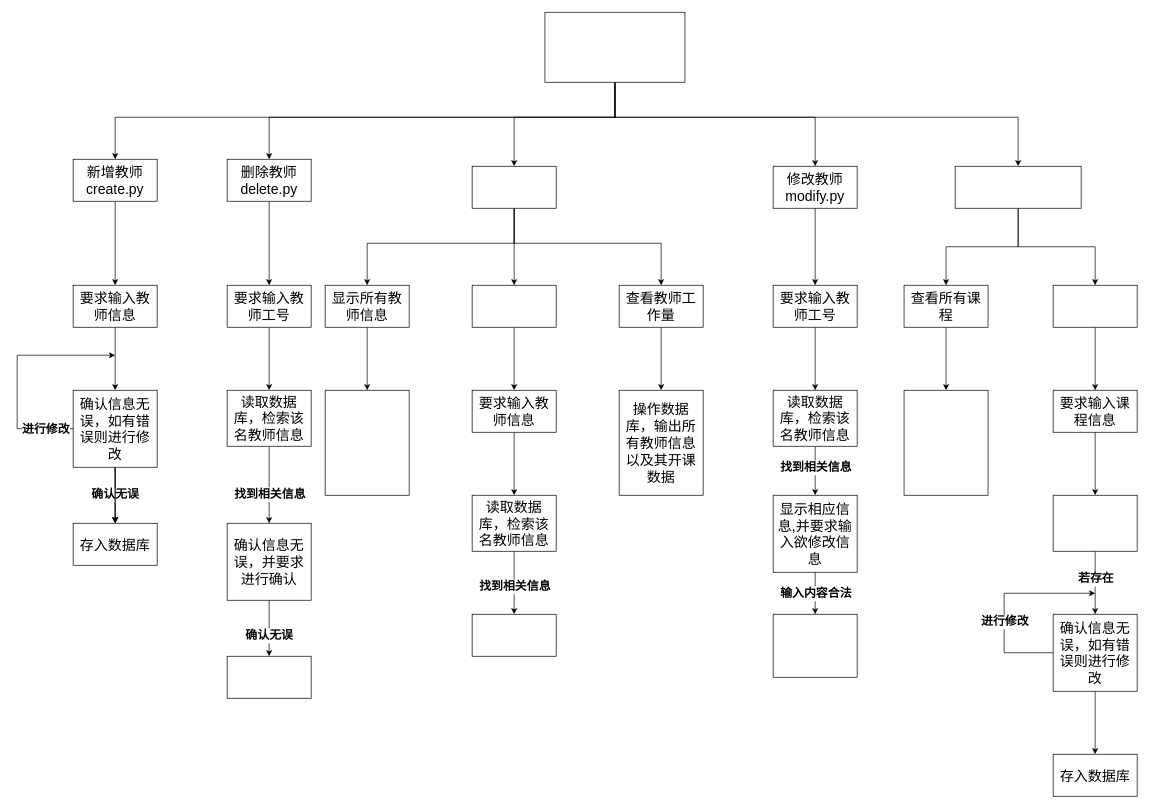
Image size: 1149x809. Some labels were removed from this diagram. Here are the shapes that lost their labels. From the top down, the centre of each, then its label:
At (x=614, y=47): "教师管理系统".
At (x=513, y=187): "查找教师 search.py".
At (x=1017, y=187): "开设课程Create_Course.py".
At (x=513, y=306): "条件搜索教师".
At (x=1094, y=306): "开设一门新课程".
At (x=366, y=442): "操作数据库，输出表Teachers_info中的所有数据".
At (x=945, y=442): "操作数据库，输出所有课程数据".
At (x=1094, y=523): "检查输入的授课教师是否存在".
At (x=513, y=635): "显示相应信息".
At (x=814, y=645): "操作数据库，修改相应数据".
At (x=268, y=677): "数据库操作".
